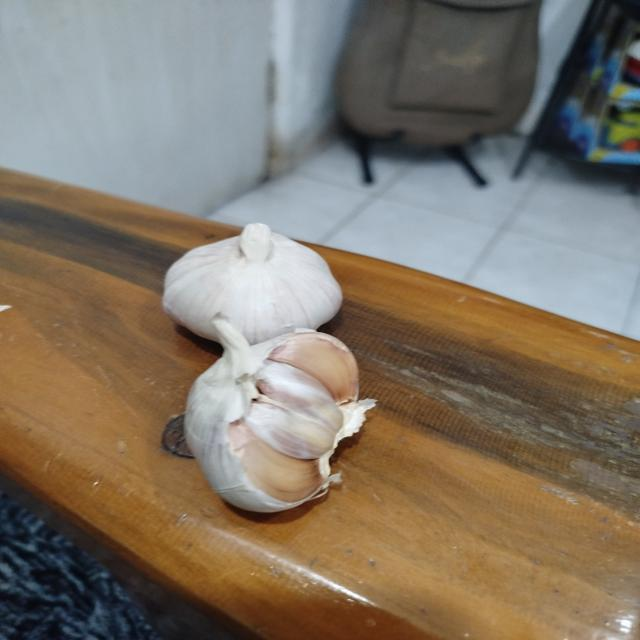garlic: (165, 312, 378, 514), (160, 222, 344, 345)
